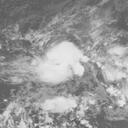cyclone: (36, 41, 89, 86)
